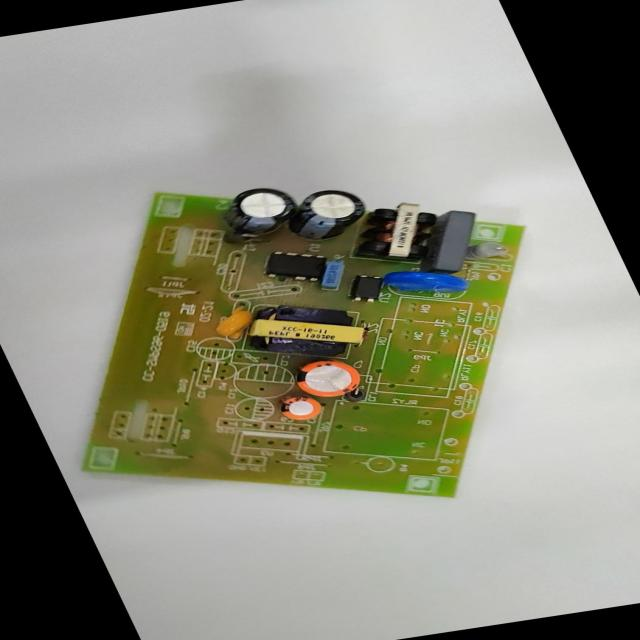Cap1: (284, 354, 370, 400)
Cap2: (269, 392, 330, 426)
Cap3: (275, 182, 384, 245)
Cap4: (208, 180, 314, 244)
MOSFET: (249, 244, 341, 291)
Mov: (375, 260, 484, 308)
Resistor: (462, 237, 513, 262)
Transformer: (225, 292, 382, 368), (326, 196, 464, 273)
